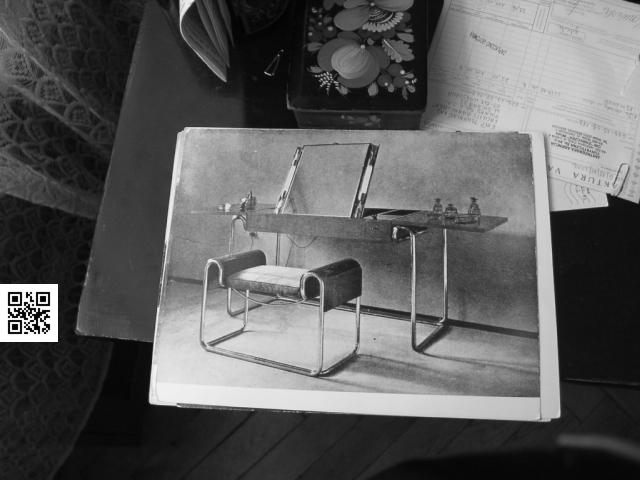qr_code: (1, 284, 58, 342)
